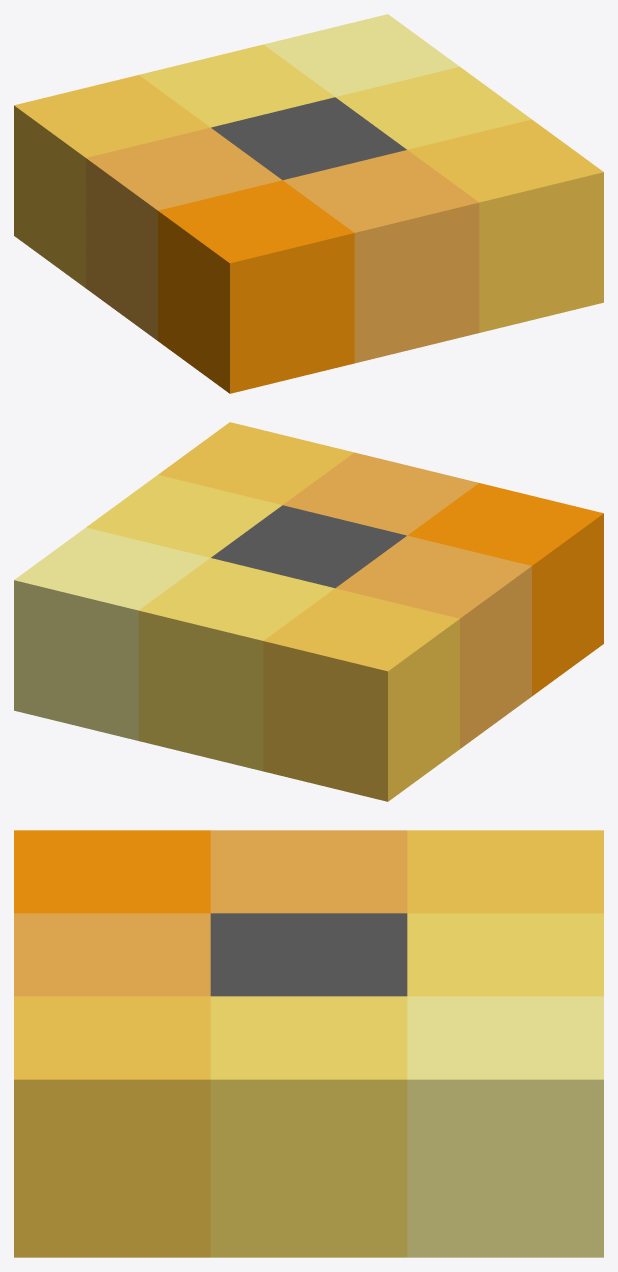
File: Ring 1.fbx
3 views of the same model, one above another, from view 1: azimuth 30°, elevation 25°; view 2: azimuth 150°, elevation 25°; view 3: azimuth 270°, elevation 25° (orthographic). The views are drawn at different scales.
Parts seen in each view (by area): view 1: Ring 1; view 2: Ring 1; view 3: Ring 1.
Boxes of the visible parts, left/top/right/bottom form: Ring 1: left=14, top=14, right=603, bottom=393; Ring 1: left=14, top=422, right=603, bottom=801; Ring 1: left=14, top=830, right=603, bottom=1257.
Bounding box in the file's own units: 30 × 10 × 30.
